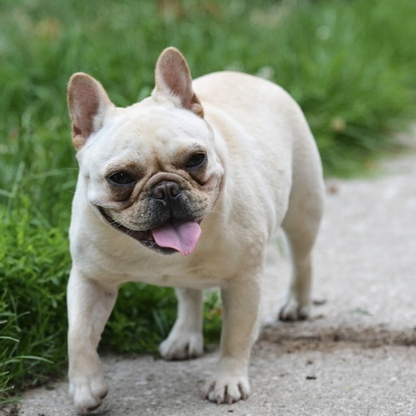bulldog: (52, 44, 329, 407)
